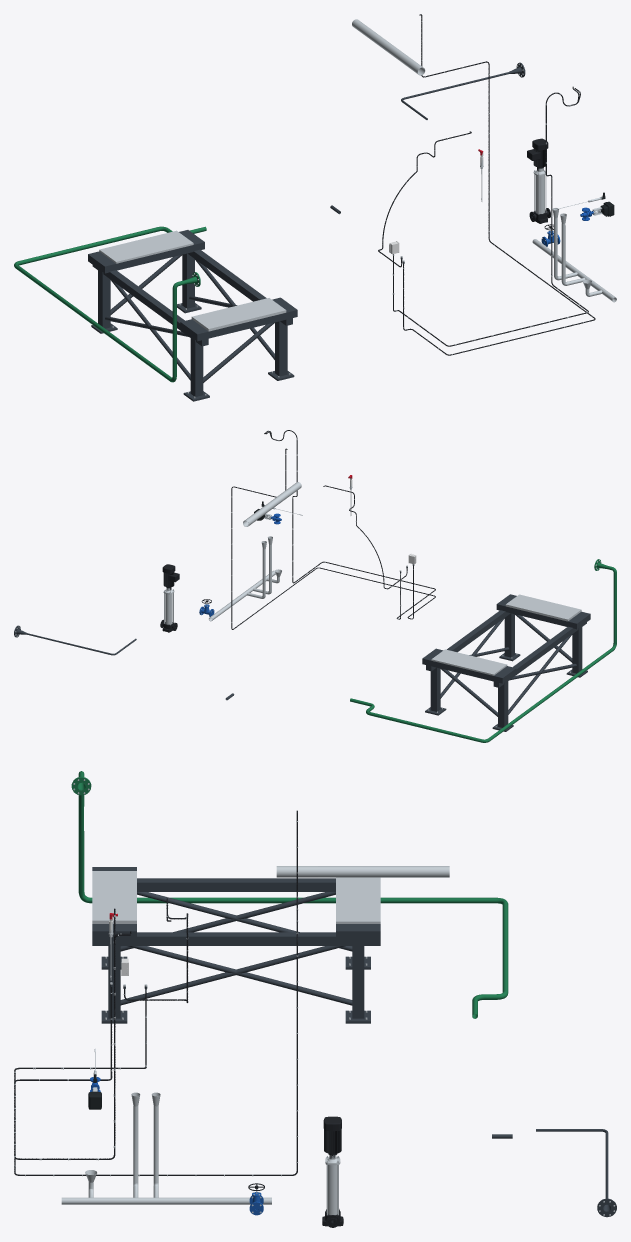
3 renders of one model, top to bottom at view 1: azimuth 30°, elevation 25°; view 2: azimuth 150°, elevation 25°; view 3: azimuth 270°, elevation 25°, orthographic. The views are drawn at different scales.
Visible parts, largest first — view 1: deaerator_support / dark, deaerator_support / steel, deaerator_feed / green, local_open_drains / steel, gpz_drive_cable / black, wiring_pressure_switch_3 / black, wiring_pressure_transmitter / black, steam_delivery / steel; view 2: deaerator_support / dark, deaerator_support / steel, deaerator_feed / green, local_open_drains / steel, gpz_drive_cable / black, wiring_pressure_transmitter / black; view 3: deaerator_support / dark, deaerator_support / steel, deaerator_feed / green, local_open_drains / steel, gpz_drive_cable / black, steam_delivery / steel, wiring_pressure_transmitter / black, wiring_pressure_switch_3 / black, tds_to_fv / dark, pump_2 CAD solid 15.
Boxes of the visible parts, box(x1,y1,x2,y2) form: deaerator_support / dark: box(88, 230, 297, 401); deaerator_support / steel: box(99, 230, 290, 398); deaerator_feed / green: box(14, 226, 206, 382); local_open_drains / steel: box(532, 208, 616, 302); gpz_drive_cable / black: box(403, 14, 595, 355); wiring_pressure_switch_3 / black: box(393, 88, 588, 346); wiring_pressure_transmitter / black: box(393, 86, 588, 346); steam_delivery / steel: box(352, 19, 407, 62); deaerator_support / dark: box(422, 594, 590, 731); deaerator_support / steel: box(428, 594, 581, 727); deaerator_feed / green: box(350, 559, 616, 742); local_open_drains / steel: box(209, 536, 281, 621); gpz_drive_cable / black: box(231, 448, 435, 629); wiring_pressure_transmitter / black: box(265, 430, 435, 619); deaerator_support / dark: box(92, 867, 380, 1023); deaerator_support / steel: box(92, 871, 380, 1019); deaerator_feed / green: box(71, 771, 508, 1018); local_open_drains / steel: box(61, 1092, 271, 1204); gpz_drive_cable / black: box(14, 810, 297, 1175); steam_delivery / steel: box(318, 866, 449, 877); wiring_pressure_transmitter / black: box(14, 909, 146, 1159); wiring_pressure_switch_3 / black: box(14, 908, 146, 1159); tds_to_fv / dark: box(536, 1129, 616, 1217); pump_2 CAD solid 15: box(323, 1116, 341, 1154).
Bounding box in the file's own units: 8.21 × 3.71 × 5.94.
